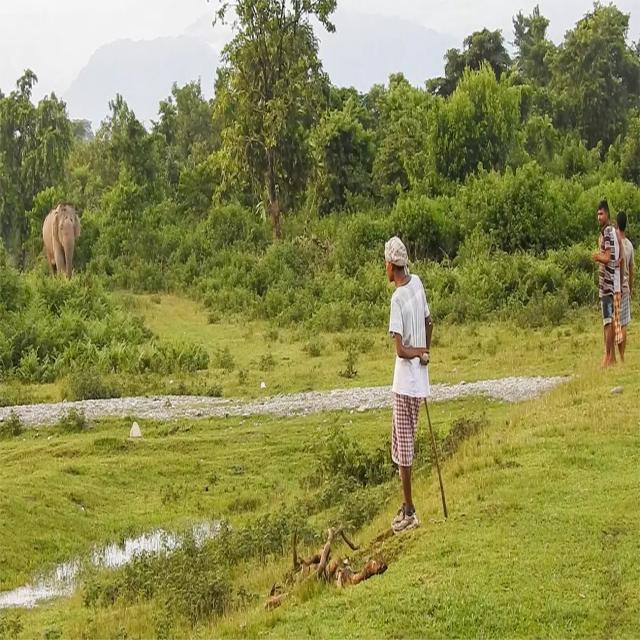Elephant: (38, 193, 88, 297)
